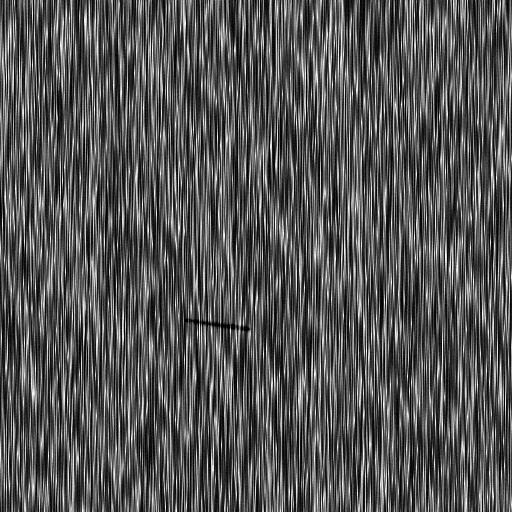DefectTypeC: (184, 317, 252, 334)
